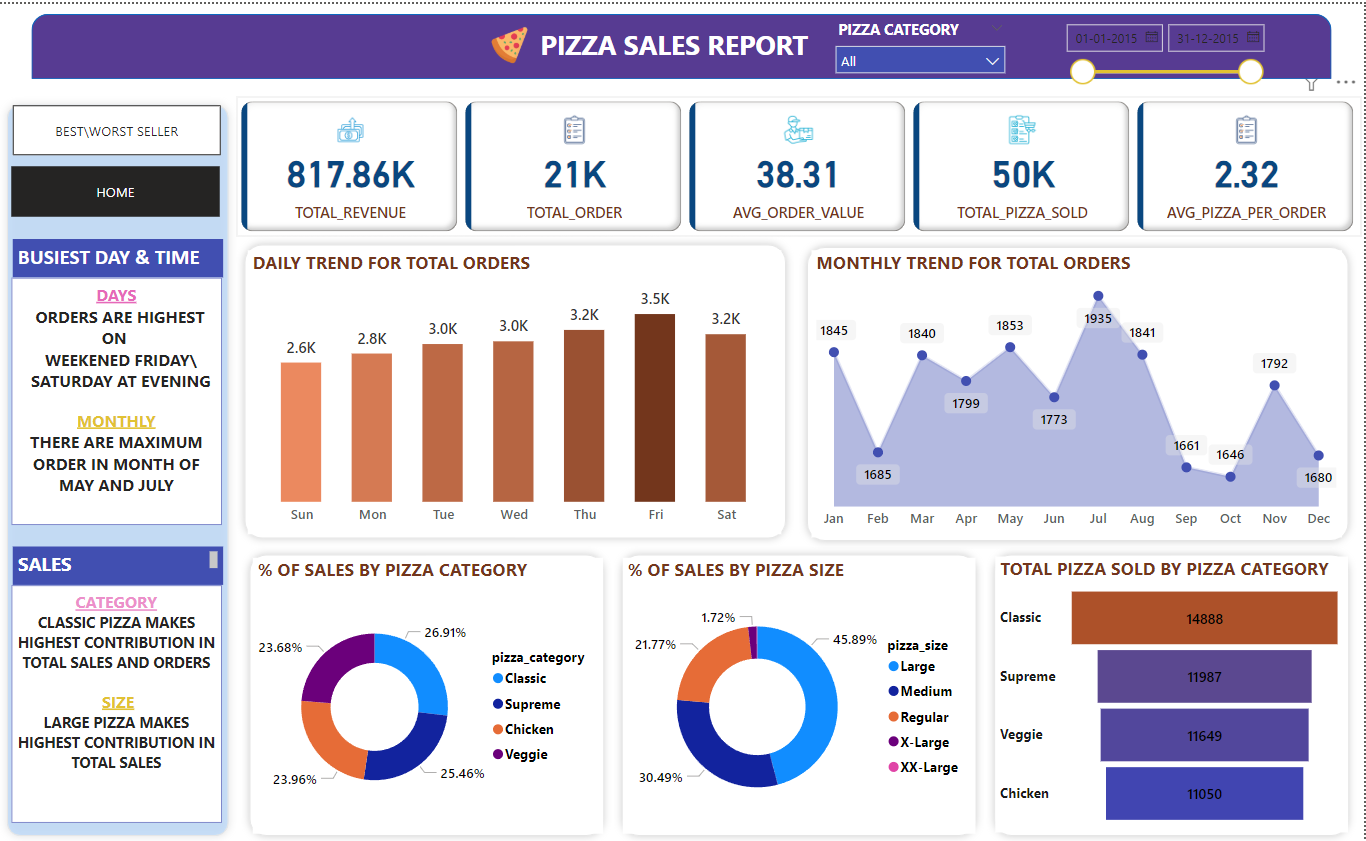

Layout of this report page (visuals, bound fields, positions):
{"tool":"powerbi","page":{"name":"HOME","canvas":[1365,840],"ordinal":0},"visuals":[{"type":"cardVisual","fields":{"Data":["public pizza_sales.Total_Revenue","public pizza_sales.TOTAL_ORDER","public pizza_sales.AVG_ORDER_VALUE","public pizza_sales.TOTAL_PIZZA_SOLD","public pizza_sales.AVG_PIZZA_PER_ORDER"]},"box":[237.5,92.5,1125,140],"z":0},{"type":"shape","box":[32.5,10,1300,65],"z":1000},{"type":"textbox","box":[536.2,17.5,292.5,50],"z":2000},{"type":"image","box":[472.5,17.5,76.2,47.5],"z":3000},{"type":"shape","box":[237.5,232.5,557.5,310],"z":4000},{"type":"columnChart","title":"DAILY TREND FOR TOTAL ORDERS","fields":{"Y":["public pizza_sales.TOTAL_ORDER"],"Category":["public pizza_sales.DAY"]},"box":[248.8,246.2,533.8,283.8],"z":5000},{"type":"shape","box":[800,235,557.5,310],"z":6000},{"type":"areaChart","title":"MONTHLY TREND FOR TOTAL ORDERS","fields":{"Y":["public pizza_sales.TOTAL_ORDER"],"Category":["public pizza_sales.MONTH"]},"box":[812.5,246.2,530,287.5],"z":7000},{"type":"shape","box":[242.5,542.5,370,297.5],"z":8000},{"type":"shape","box":[615,542.5,370,297.5],"z":9000},{"type":"shape","box":[987.5,542.5,370,297.5],"z":10000},{"type":"donutChart","title":"% OF SALES BY PIZZA CATEGORY","fields":{"Y":["public pizza_sales.TOTAL_REVENUE"],"Category":["public pizza_sales.pizza_category"]},"box":[253.8,553.8,350,276.2],"z":11000},{"type":"shape","box":[0,92.5,237.5,747.5],"z":12000},{"type":"donutChart","title":"% OF SALES BY PIZZA SIZE","fields":{"Y":["public pizza_sales.TOTAL_REVENUE"],"Category":["public pizza_sales.pizza_size"]},"box":[623.8,553.8,352.5,276.2],"z":13000},{"type":"funnel","title":"TOTAL PIZZA SOLD BY PIZZA CATEGORY","fields":{"Y":["public pizza_sales.TOTAL_PIZZA_SOLD"],"Category":["public pizza_sales.pizza_category"]},"box":[996.2,552.5,352.5,276.2],"z":14000},{"type":"textbox","box":[13.8,235,210,38.8],"z":15000},{"type":"textbox","box":[12.5,273.8,210,247.5],"z":16000},{"type":"textbox","box":[13.8,542.5,210,38.8],"z":17000},{"type":"textbox","box":[12.5,581.2,210,237.5],"z":18000},{"type":"slicer","fields":{"Values":["public pizza_sales.pizza_category"]},"box":[826.2,10,190,65],"z":19000},{"type":"slicer","fields":{"Values":["public pizza_sales.order_date"]},"box":[1055,10,217.5,82.5],"z":20000},{"type":"pageNavigator","box":[13.8,101.2,208.8,50],"z":20001},{"type":"pageNavigator","box":[12.5,162.5,208.8,50],"z":20002}]}

Visuals, with their boxes in screenshot pixels (x1, y1, x2, y2), scaled from the page's 1365x840 canvas onto the 1366x841 screenshot:
cardVisual - public pizza_sales.Total_Revenue x public pizza_sales.TOTAL_ORDER: Rect(238, 93, 1363, 233)
shape: Rect(33, 10, 1333, 75)
textbox: Rect(537, 18, 829, 68)
image: Rect(473, 18, 549, 65)
shape: Rect(238, 233, 796, 543)
"DAILY TREND FOR TOTAL ORDERS" columnChart: Rect(249, 246, 783, 531)
shape: Rect(801, 235, 1358, 546)
"MONTHLY TREND FOR TOTAL ORDERS" areaChart: Rect(813, 246, 1343, 534)
shape: Rect(243, 543, 613, 840)
shape: Rect(615, 543, 986, 840)
shape: Rect(988, 543, 1358, 840)
"% OF SALES BY PIZZA CATEGORY" donutChart: Rect(254, 554, 604, 831)
shape: Rect(0, 93, 238, 840)
"% OF SALES BY PIZZA SIZE" donutChart: Rect(624, 554, 977, 831)
"TOTAL PIZZA SOLD BY PIZZA CATEGORY" funnel: Rect(997, 553, 1350, 830)
textbox: Rect(14, 235, 224, 274)
textbox: Rect(13, 274, 223, 522)
textbox: Rect(14, 543, 224, 582)
textbox: Rect(13, 582, 223, 820)
slicer - public pizza_sales.pizza_category: Rect(827, 10, 1017, 75)
slicer - public pizza_sales.order_date: Rect(1056, 10, 1273, 93)
pageNavigator: Rect(14, 101, 223, 151)
pageNavigator: Rect(13, 163, 221, 213)
